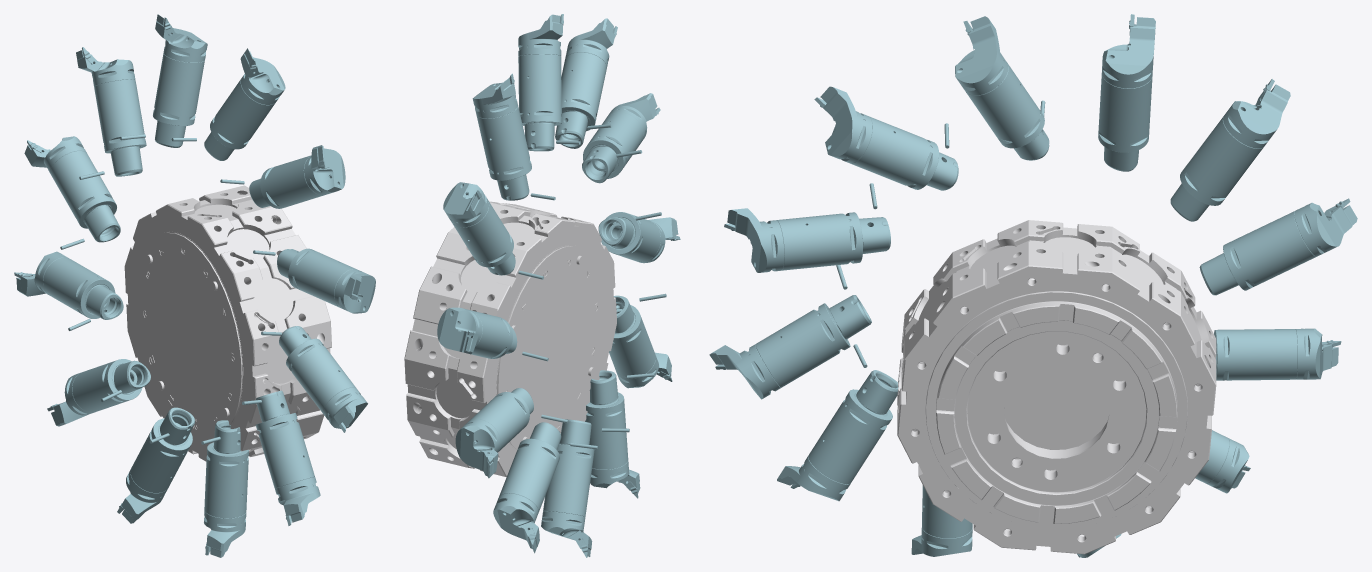
File: turret-stations.glb
3 renders of one model, left to right at view 1: azimuth 30°, elevation 25°; view 2: azimuth 150°, elevation 25°; view 3: azimuth 270°, elevation 25°, orthographic. The views are drawn at different scales.
Parts seen in each view (by area): view 1: Turret Assembly; view 2: Turret Assembly; view 3: Turret Assembly.
Boxes of the visible parts, x1,y1,x2,y2 form: Turret Assembly: [14, 14, 375, 557]; Turret Assembly: [404, 14, 680, 557]; Turret Assembly: [709, 14, 1357, 557].
Bounding box in the file's own units: 26.89 × 80.08 × 80.21.
